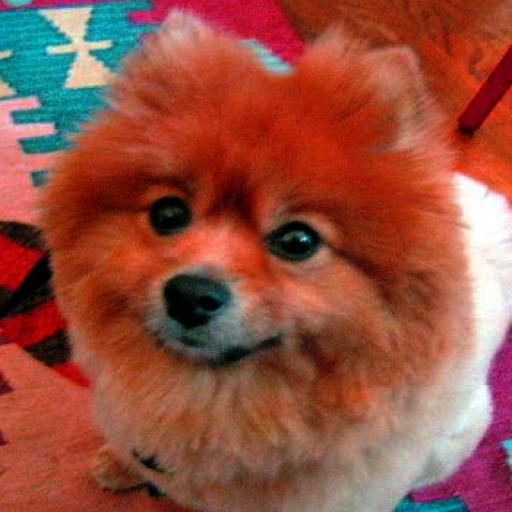dog_face: (45, 26, 430, 386)
